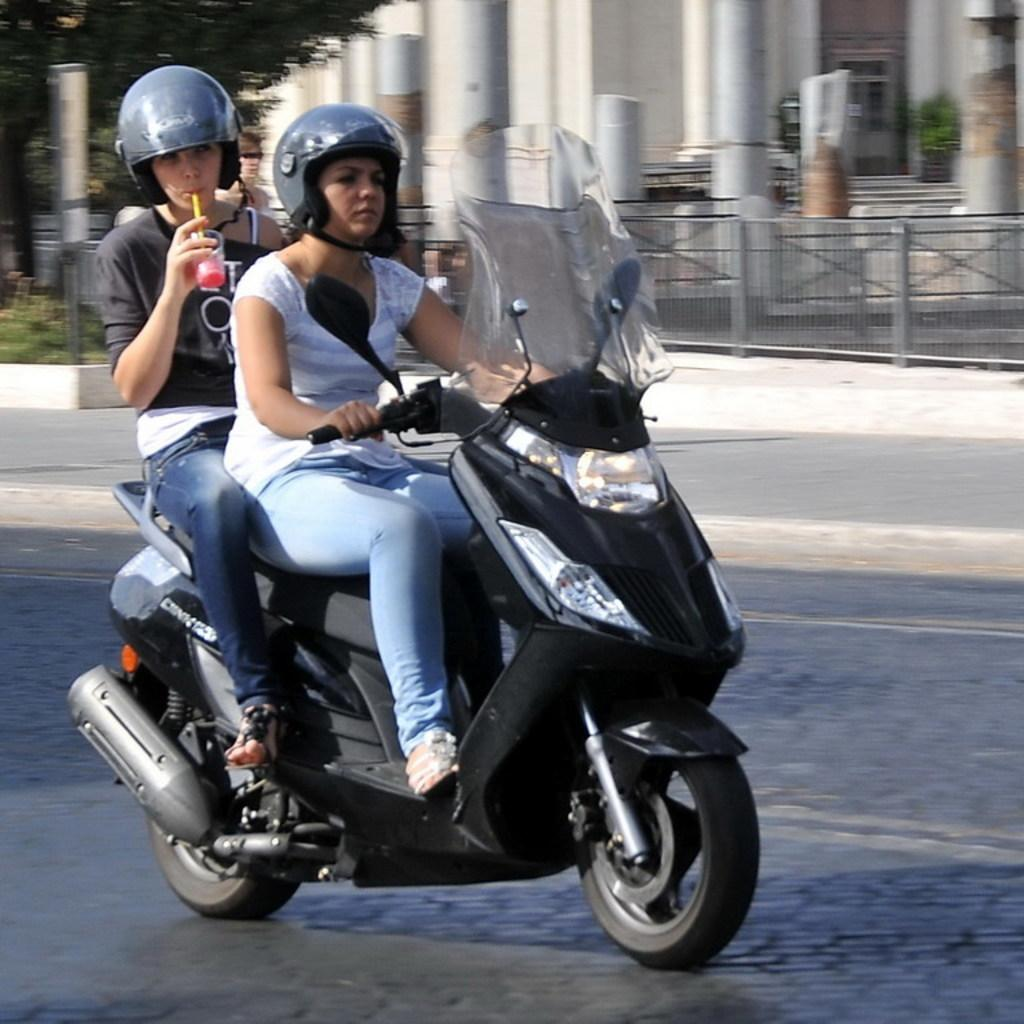helmet: (272, 103, 410, 234), (114, 65, 243, 205)
